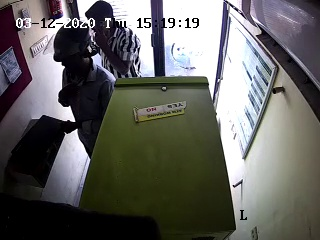helmet: (45, 20, 96, 75)
